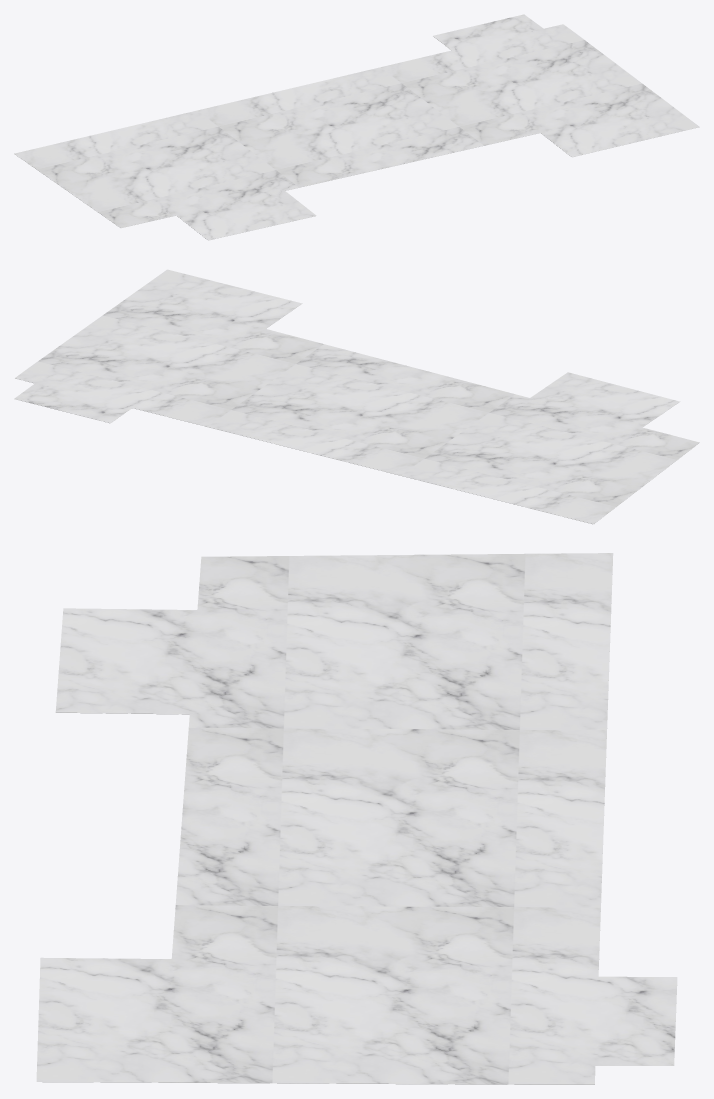
Rendered from pavimentoBagno1.glb.
3 renders of one model, top to bottom at view 1: azimuth 30°, elevation 25°; view 2: azimuth 150°, elevation 25°; view 3: azimuth 270°, elevation 25°, orthographic. The views are drawn at different scales.
Visible parts, largest first — view 1: PavimentoBagno1; view 2: PavimentoBagno1; view 3: PavimentoBagno1.
Boxes of the visible parts, x1=… form: PavimentoBagno1: x1=14, y1=14, x2=699, y2=240; PavimentoBagno1: x1=14, y1=269, x2=699, y2=524; PavimentoBagno1: x1=36, y1=553, x2=677, y2=1084.
Bounding box in the file's own units: 3.88 × 0.001 × 1.97.
1 material, 1 textured.
